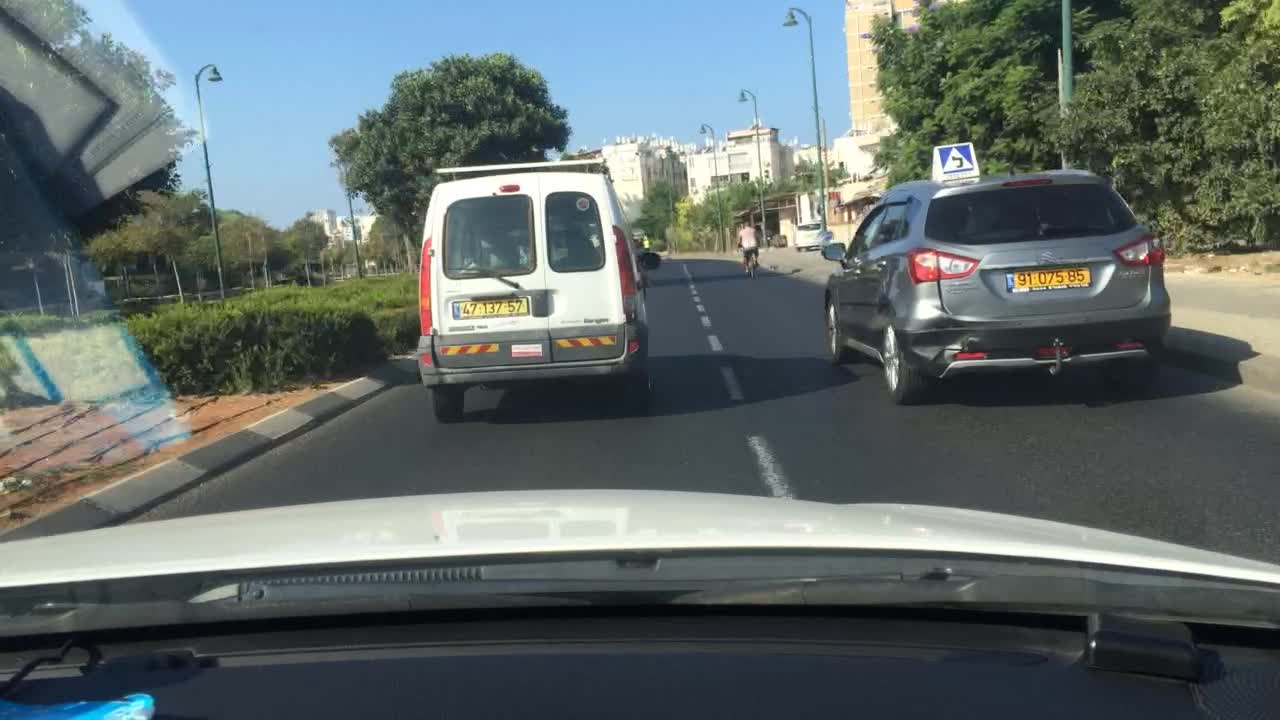car: (815, 139, 1180, 407), (410, 154, 665, 425), (792, 221, 831, 252), (632, 229, 651, 249)
person: (736, 219, 763, 274)
rider: (734, 240, 761, 278)
